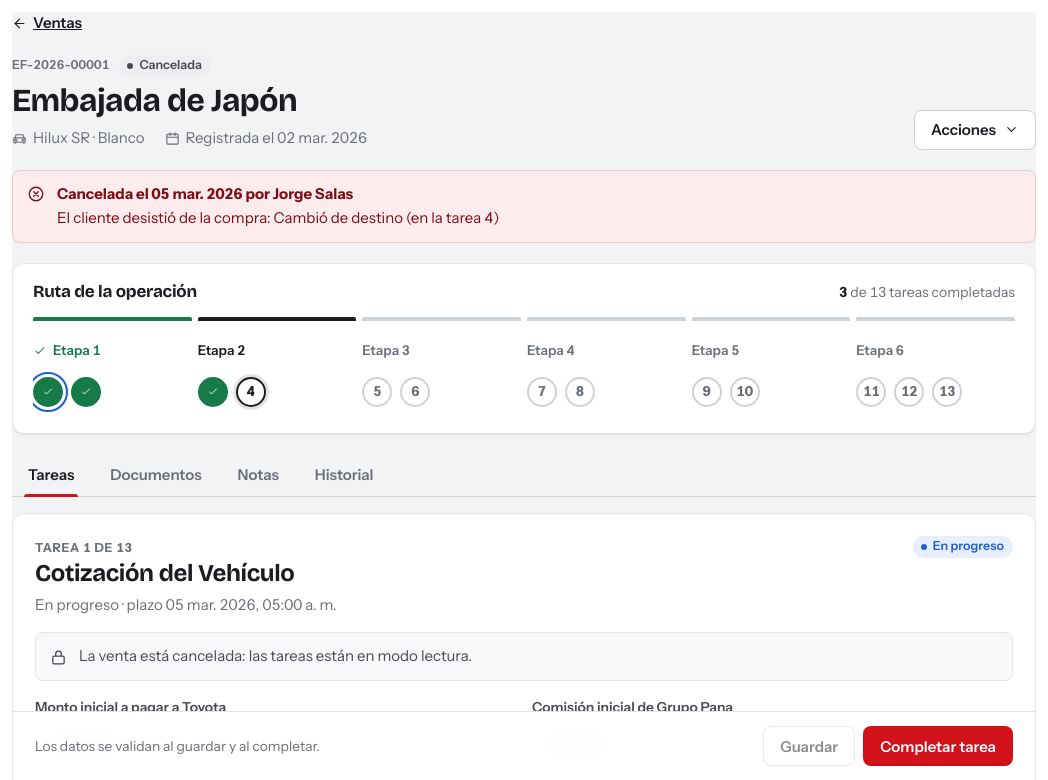
Test: actions follow the server's permissions › explains a cancelled sale and offers to reopen it
Expected: the text "Cancelada el 05 mar. 2026 por Jorge Salas" is shown, [57,184,353,203]
Expected: the text "Cambió de destino" is shown, [274,208,403,227]
What coordinates should you click on to do the following:
click the button with aria-label "Acciones de la venta"
I would click on:
 (975, 130)
Its box is [914,110,1036,150].
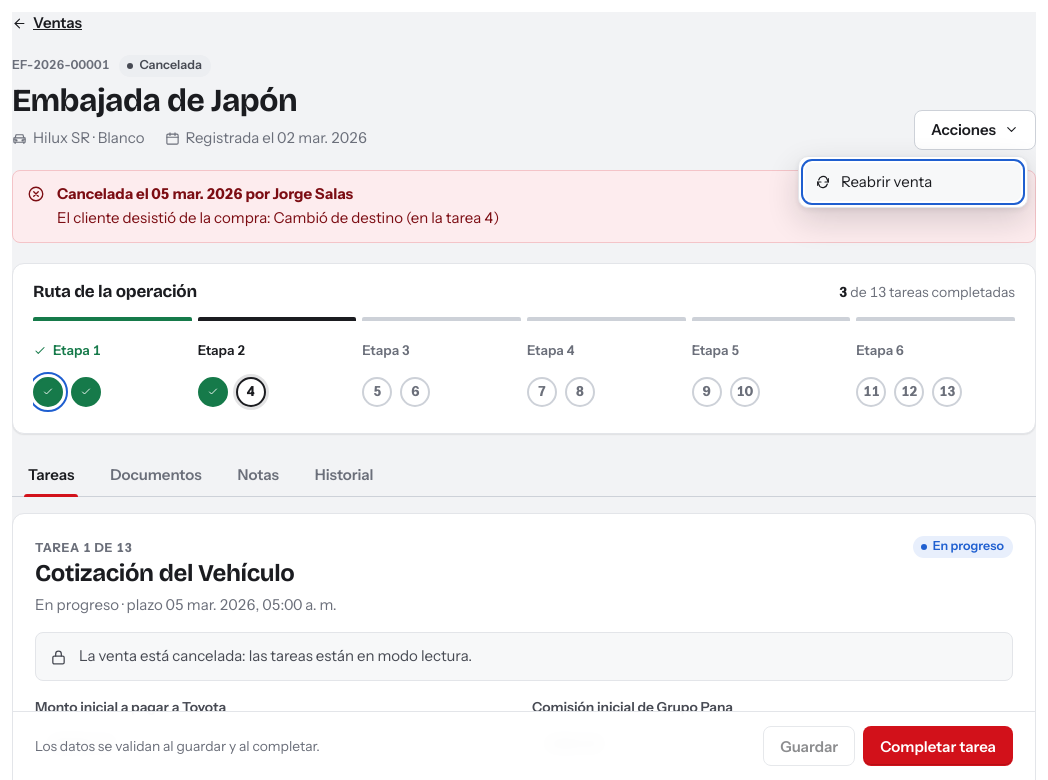
Expected: the menu item "Reabrir venta" is shown, [805,163,1021,201]
